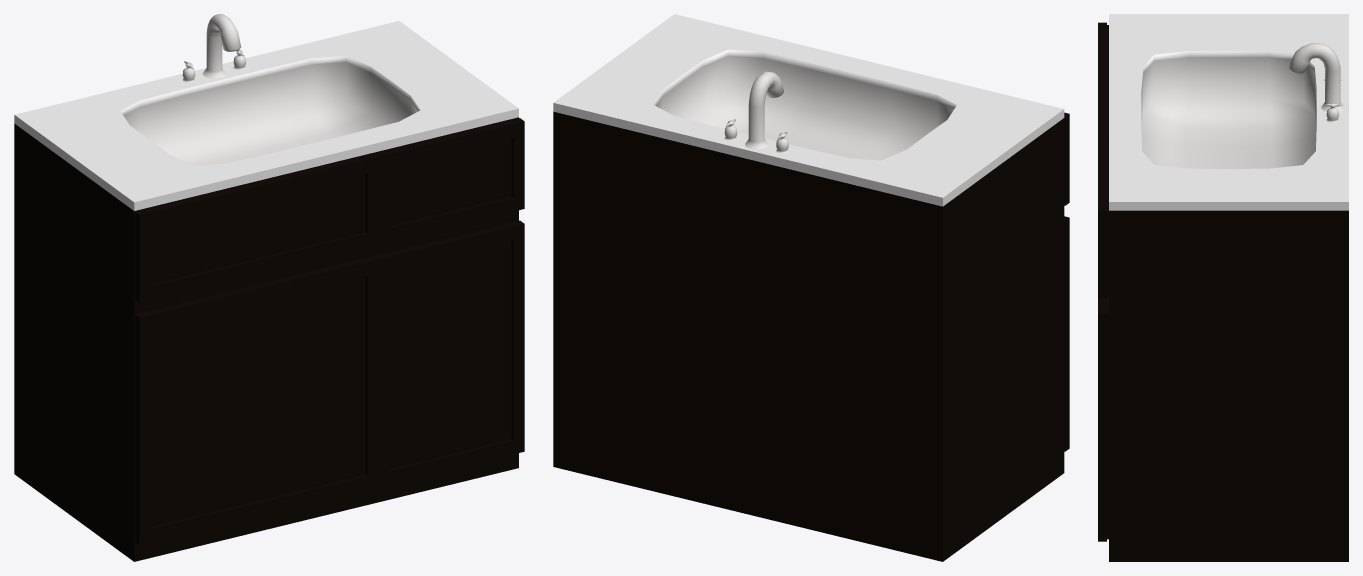
File: kitchensinkarrangement.fbx
The picture shows the model from 3 angles, left to right: view 1: azimuth 30°, elevation 25°; view 2: azimuth 150°, elevation 25°; view 3: azimuth 270°, elevation 25°; orthographic projection.
Visible parts, largest first — view 1: sink; view 2: sink; view 3: sink.
Boxes of the visible parts, bbox=[...] form: sink: bbox=[14, 14, 524, 561]; sink: bbox=[553, 14, 1069, 561]; sink: bbox=[1098, 14, 1348, 561].
Bounding box in the file's own units: 371 × 390 × 209.
